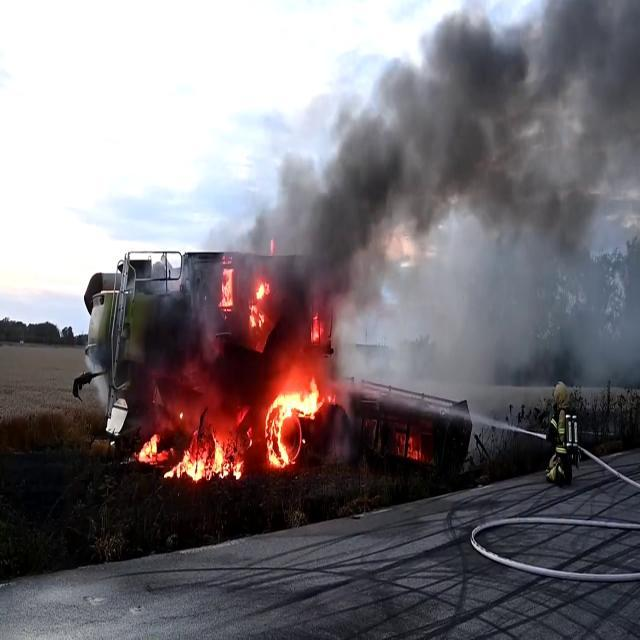Fire: (133, 424, 241, 486), (262, 374, 328, 468)
Smoke: (228, 1, 640, 372)
